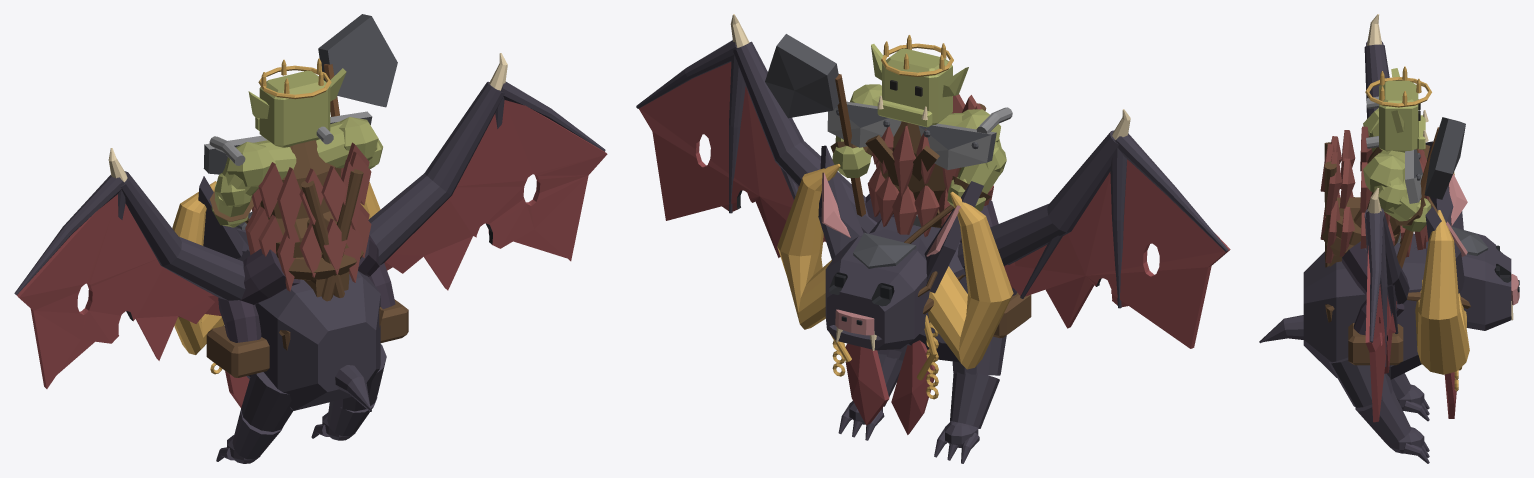
The model's file is host_30.glb.
3 views of the same model, side by side, from view 1: azimuth 30°, elevation 25°; view 2: azimuth 150°, elevation 25°; view 3: azimuth 270°, elevation 25° (orthographic). The views are drawn at different scales.
Visible parts, largest first — view 1: V6 source mounted closed scalloped membrane R, V6 source mounted closed scalloped membrane L, V6 mount continuous anatomical thorax, V6 source mounted wing shoulder elbow wrist bone R, V6 warlord source actual layered red shoulder mantle contact (×8), V6 source mounted wing shoulder elbow wrist bone L, Broad axe curved cutting head, Observed face, V6 bat king source curved golden temple horn, Grounded boot L, V6 bat actual contacting hind thigh L, V6 rider source seated thorax (+21 smaller); view 2: V6 source mounted closed scalloped membrane L, V6 source mounted closed scalloped membrane R, V6 bat source short faceted cranium, V6 bat king source curved golden temple horn, V6 source mounted wing shoulder elbow wrist bone L, V6 bat king source curved golden temple horn.001, V6 source mounted wing shoulder elbow wrist bone R, V6 bat king source actual layered ragged red chest caparison (×2), Broad axe curved cutting head, Observed face, V6 warlord source actual layered red shoulder mantle contact (×4), V6 source angled fitted shoulder plate L (+22 smaller); view 3: V6 mount continuous anatomical thorax, V6 bat king source curved golden temple horn.001, V6 bat source short faceted cranium, V6 warlord source actual layered red shoulder mantle contact (×7), Observed face, V6 source mounted closed scalloped membrane R, Broad axe curved cutting head, V6 bat actual contacting hind thigh R, V6 bat actual hind shin and ankle R, V6 source actual membrane finger R, Grounded boot R, Connected shoulder R (+28 smaller).
Boxes of the visible parts, left/top/right/bottom form: V6 source mounted closed scalloped membrane R: left=384, top=100, right=607, bottom=290; V6 source mounted closed scalloped membrane L: left=16, top=194, right=221, bottom=388; V6 mount continuous anatomical thorax: left=238, top=249, right=380, bottom=410; V6 source mounted wing shoulder elbow wrist bone R: left=368, top=81, right=504, bottom=265; V6 warlord source actual layered red shoulder mantle contact (×8): left=258, top=162, right=363, bottom=291; V6 source mounted wing shoulder elbow wrist bone L: left=121, top=171, right=245, bottom=300; Broad axe curved cutting head: left=318, top=14, right=397, bottom=107; Observed face: left=259, top=70, right=330, bottom=147; V6 bat king source curved golden temple horn: left=172, top=181, right=224, bottom=354; Grounded boot L: left=206, top=326, right=269, bottom=377; V6 bat actual contacting hind thigh L: left=241, top=372, right=293, bottom=431; V6 rider source seated thorax: left=260, top=140, right=341, bottom=238; V6 source mounted closed scalloped membrane L: left=1004, top=159, right=1230, bottom=348; V6 source mounted closed scalloped membrane R: left=639, top=62, right=825, bottom=257; V6 bat source short faceted cranium: left=825, top=229, right=930, bottom=350; V6 bat king source curved golden temple horn: left=928, top=191, right=1013, bottom=369; V6 source mounted wing shoulder elbow wrist bone L: left=957, top=130, right=1118, bottom=277; V6 bat king source curved golden temple horn.001: left=777, top=164, right=840, bottom=329; V6 source mounted wing shoulder elbow wrist bone R: left=733, top=41, right=877, bottom=233; V6 bat king source actual layered ragged red chest caparison (×2): left=845, top=340, right=935, bottom=434; Broad axe curved cutting head: left=765, top=34, right=839, bottom=118; Observed face: left=882, top=48, right=952, bottom=125; V6 warlord source actual layered red shoulder mantle contact (×4): left=876, top=126, right=939, bottom=236; V6 source angled fitted shoulder plate L: left=918, top=123, right=996, bottom=169; V6 mount continuous anatomical thorax: left=1303, top=233, right=1425, bottom=379; V6 bat king source curved golden temple horn.001: left=1415, top=210, right=1469, bottom=374; V6 bat source short faceted cranium: left=1426, top=231, right=1511, bottom=330; V6 warlord source actual layered red shoulder mantle contact (×7): left=1325, top=126, right=1372, bottom=263; Observed face: left=1379, top=80, right=1418, bottom=152; V6 source mounted closed scalloped membrane R: left=1365, top=246, right=1396, bottom=422; Broad axe curved cutting head: left=1424, top=117, right=1465, bottom=199; V6 bat actual contacting hind thigh R: left=1329, top=357, right=1392, bottom=407; V6 bat actual hind shin and ankle R: left=1355, top=390, right=1411, bottom=444; V6 source actual membrane finger R: left=1366, top=211, right=1383, bottom=342; Grounded boot R: left=1348, top=323, right=1403, bottom=365; Connected shoulder R: left=1363, top=153, right=1404, bottom=192.
Bounding box in the file's own units: 2.85 × 1.83 × 1.19.
